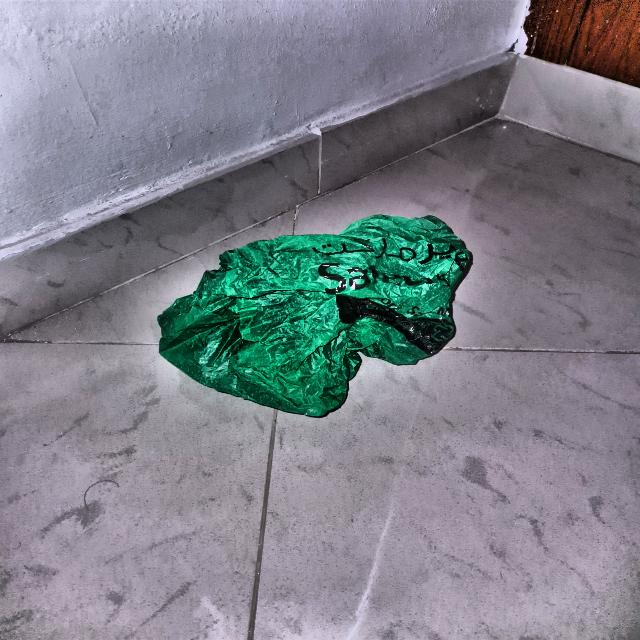plastic bag: (118, 192, 500, 422)
